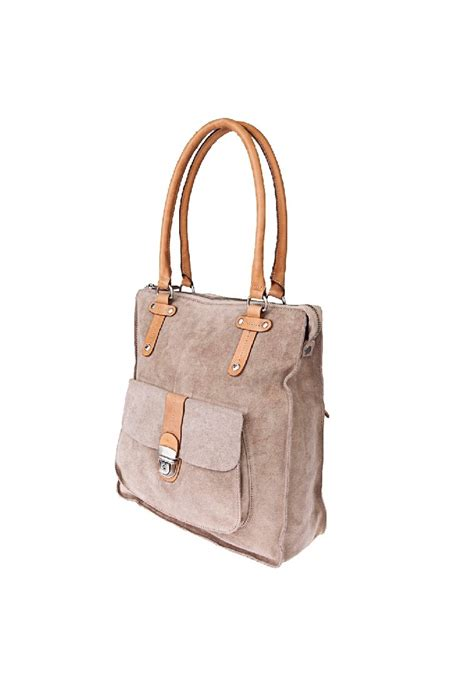gamuza: (115, 283, 331, 566)
